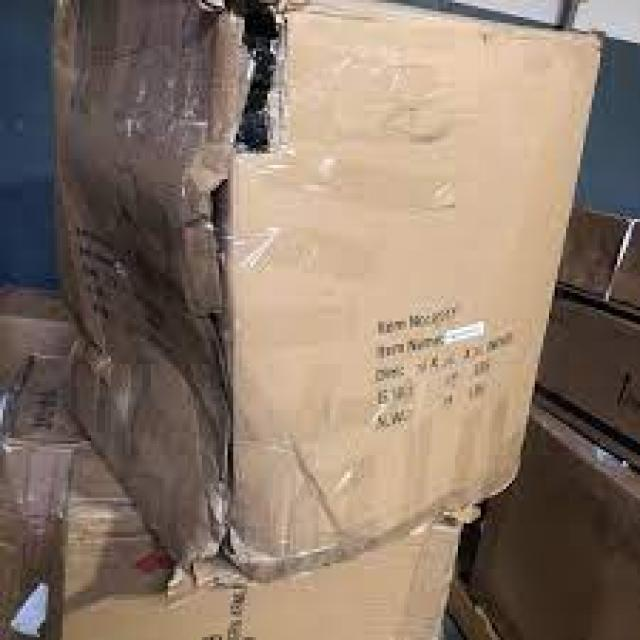hole: (212, 11, 294, 168)
